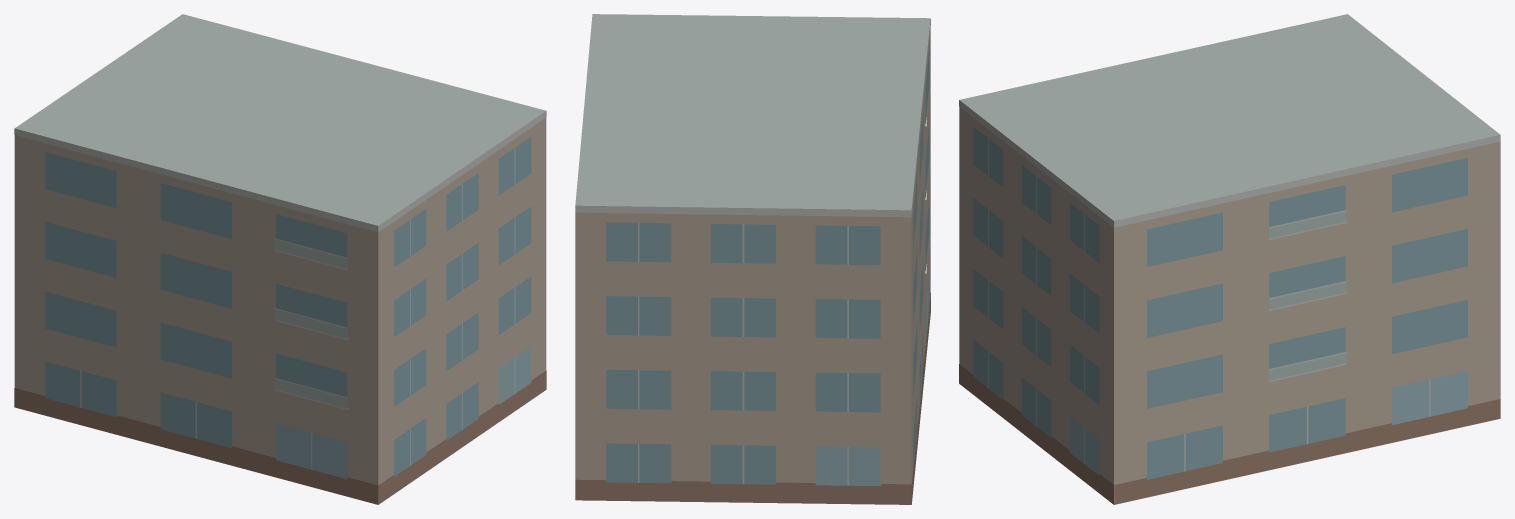
Rendered from survey-upis-32894207.glb.
The picture shows the model from 3 angles, left to right: view 1: azimuth 30°, elevation 25°; view 2: azimuth 150°, elevation 25°; view 3: azimuth 270°, elevation 25°; orthographic projection. The views are drawn at different scales.
Parts seen in each view (by area): view 1: survey-upis-32894207.tmp; view 2: survey-upis-32894207.tmp; view 3: survey-upis-32894207.tmp.
Part boxes in pixels (left/top/right/bottom): survey-upis-32894207.tmp: left=14, top=14, right=546, bottom=504; survey-upis-32894207.tmp: left=575, top=14, right=930, bottom=504; survey-upis-32894207.tmp: left=959, top=14, right=1500, bottom=504.
Bounding box in the file's own units: 16.13 × 10.3 × 17.82.
